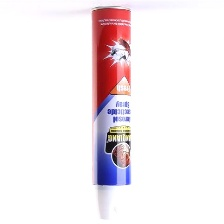aerosol_cans: (88, 3, 135, 222)
